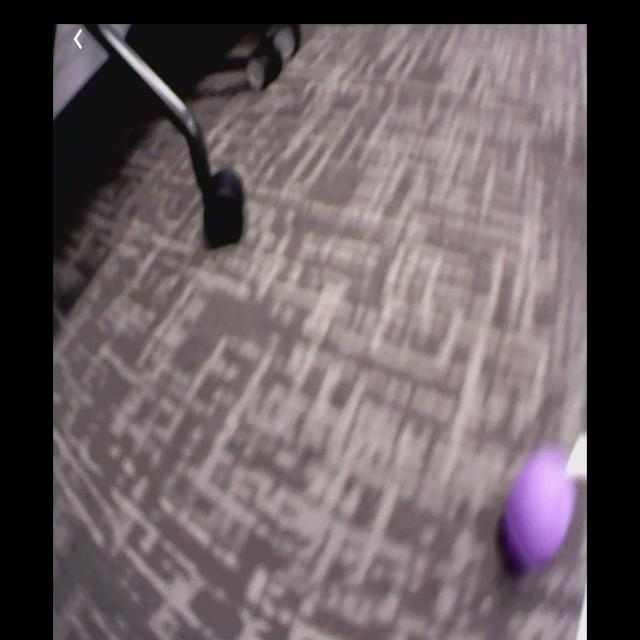ball: (497, 442, 579, 578)
